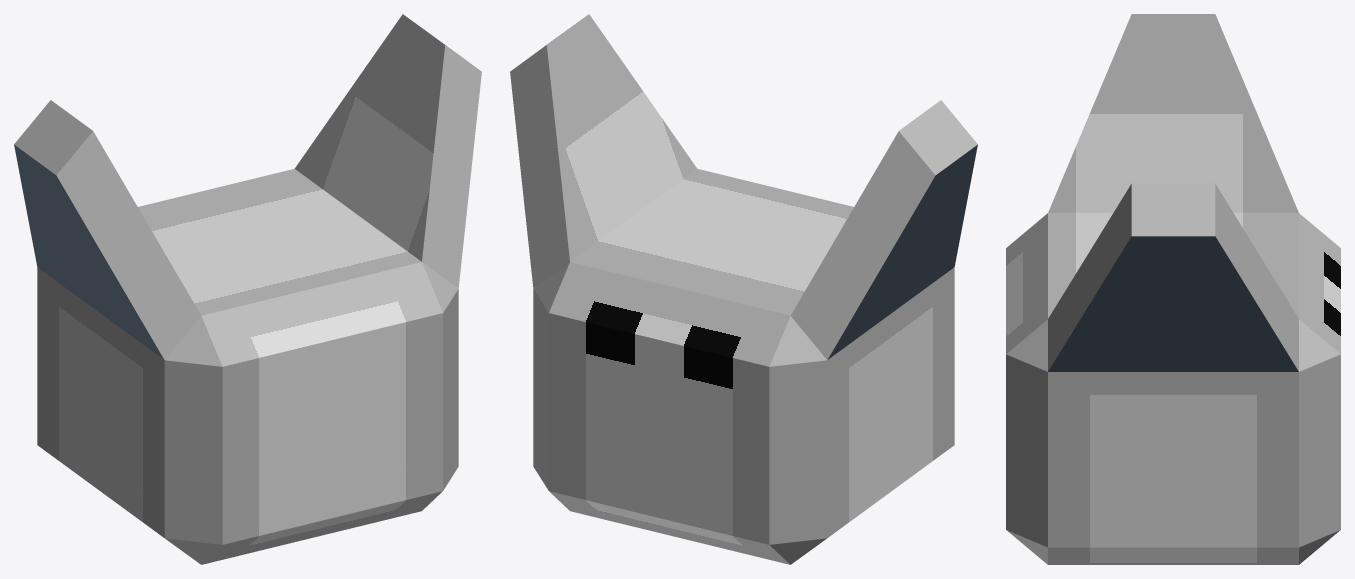
File: white_knight.glb
3 views of the same model, side by side, from view 1: azimuth 30°, elevation 25°; view 2: azimuth 150°, elevation 25°; view 3: azimuth 270°, elevation 25° (orthographic).
Parts seen in each view (by area): view 1: beveled_cuboid; view 2: beveled_cuboid; view 3: beveled_cuboid.
Boxes of the visible parts, left/top/right/bottom form: beveled_cuboid: left=14, top=14, right=481, bottom=564; beveled_cuboid: left=510, top=14, right=977, bottom=564; beveled_cuboid: left=1006, top=14, right=1340, bottom=564.
Size of the model in its own units: 0.5427 by 0.5107 by 0.375.
1 material, 1 textured.
